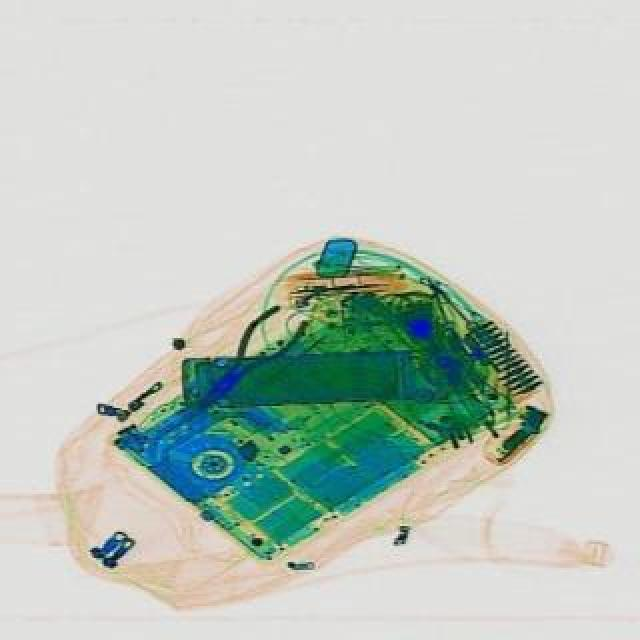wrench: (176, 298, 308, 426)
